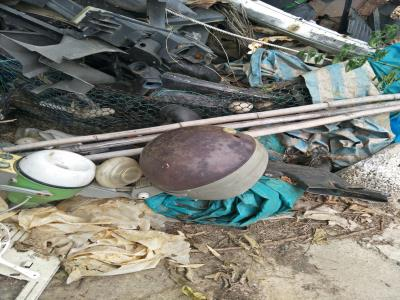bottle: (94, 154, 144, 190)
bowl: (17, 146, 96, 189)
plastic_bag: (22, 200, 197, 279), (149, 182, 306, 226), (247, 46, 376, 99), (282, 120, 396, 170)
